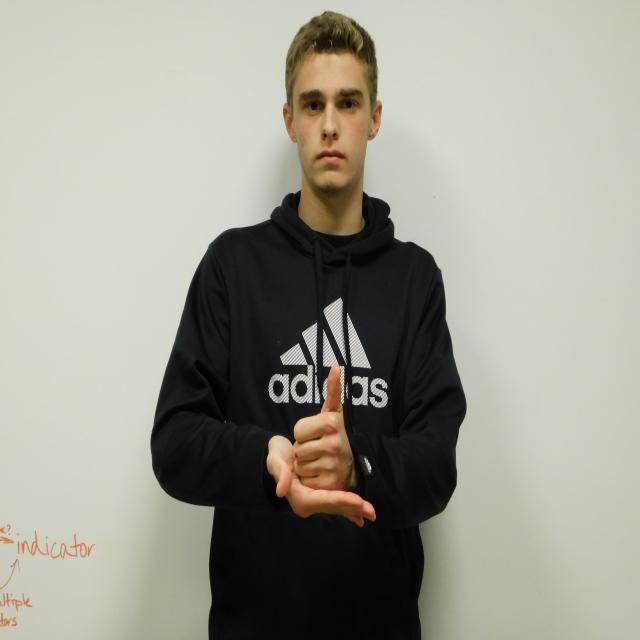help: (266, 365, 376, 527)
